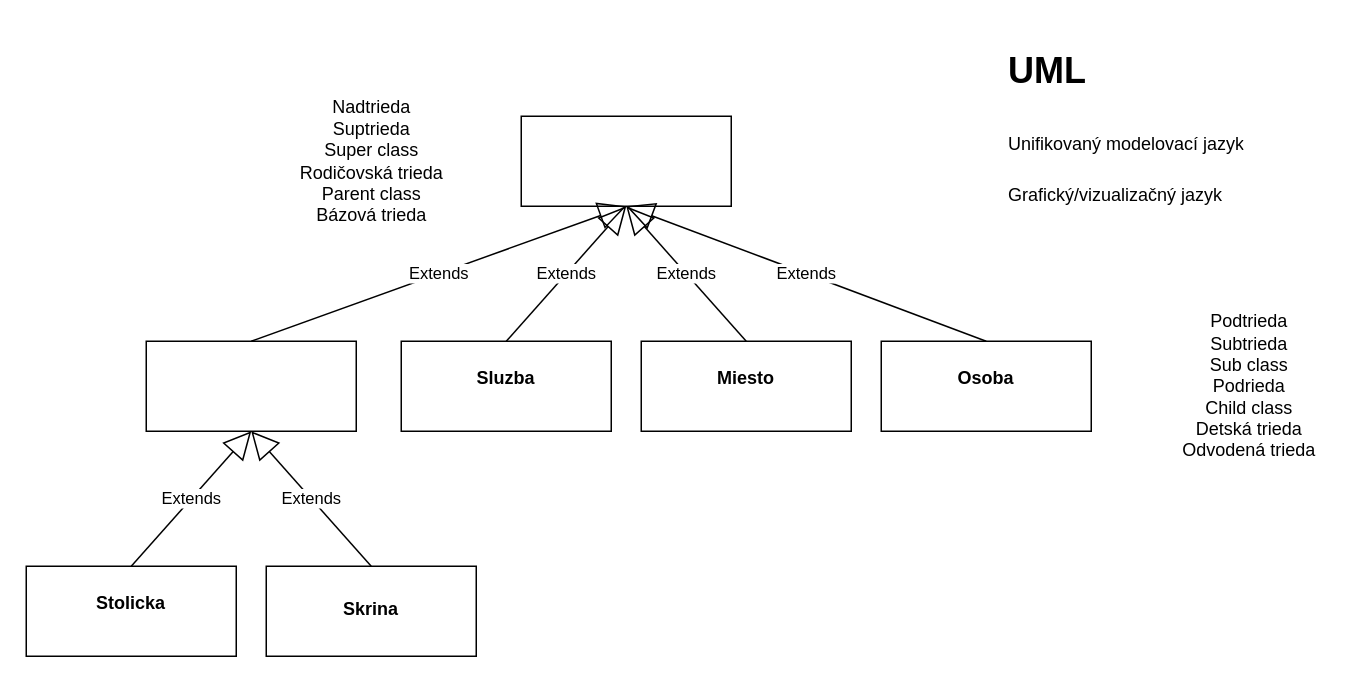
The diagram is 1350 pixels wide and 683 high, and some of its shapes have lost their labels. The shapes that lost their labels are listed below. From the top down, each one's centre as x and y in pixels, then its label:
pixel 625 160: Produkt
pixel 250 385: Vyrobok
